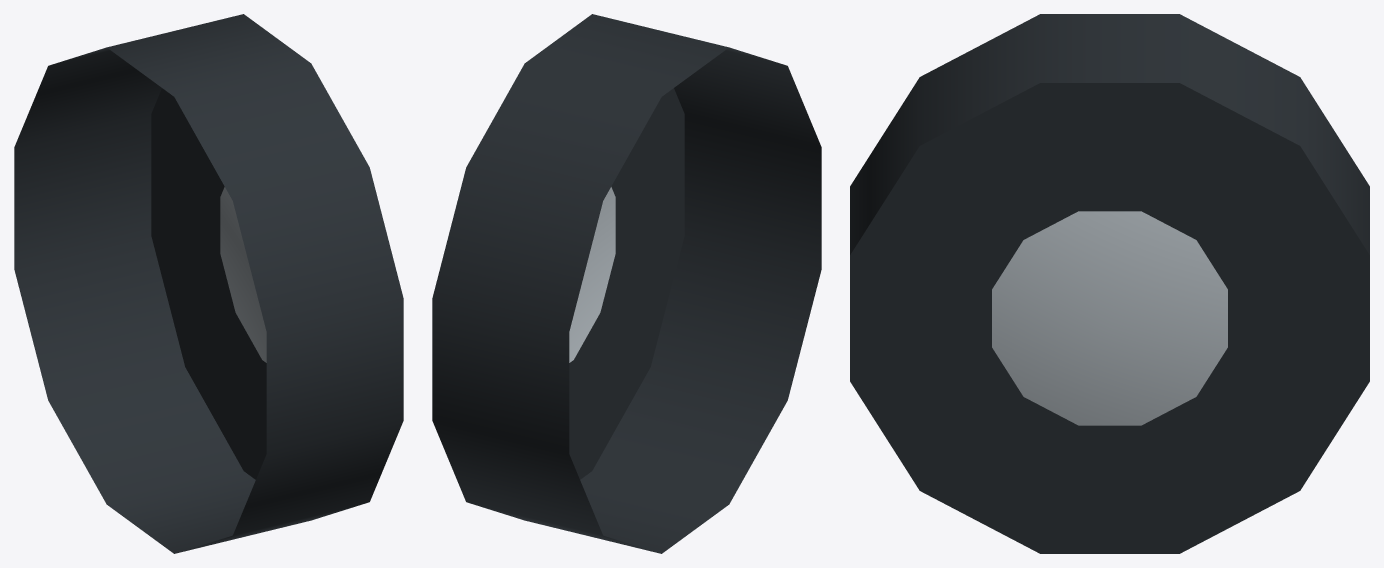
File: SM_Wheel.obj
3 views of the same model, side by side, from view 1: azimuth 30°, elevation 25°; view 2: azimuth 150°, elevation 25°; view 3: azimuth 270°, elevation 25° (orthographic). The views are drawn at different scales.
Parts seen in each view (by area): view 1: Wheel; view 2: Wheel; view 3: Wheel.
Part boxes in pixels (x1,y1,x2,y2): Wheel: [14, 14, 403, 553]; Wheel: [432, 14, 821, 553]; Wheel: [850, 14, 1369, 553].
Size of the model in its own units: 0.225 by 0.6375 by 0.6375.
